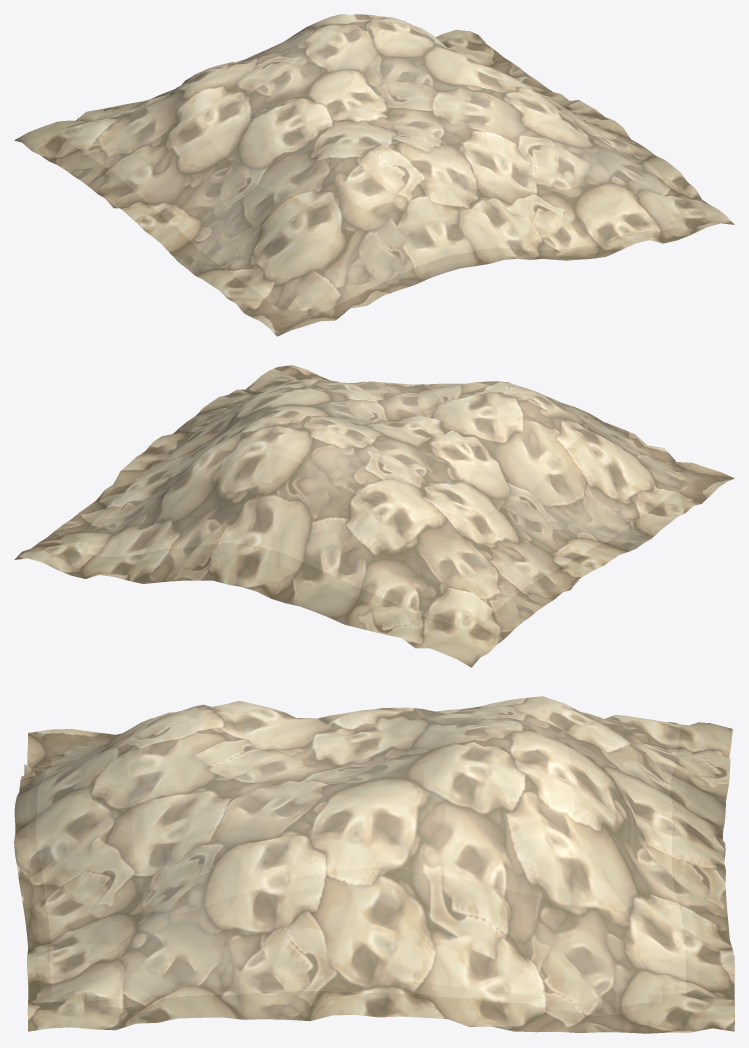
File: SM_Bone_Pile_01.fbx
3 renders of one model, top to bottom at view 1: azimuth 30°, elevation 25°; view 2: azimuth 150°, elevation 25°; view 3: azimuth 270°, elevation 25°, orthographic. The views are drawn at different scales.
Visible parts, largest first — view 1: SM_Bone_Pile_01; view 2: SM_Bone_Pile_01; view 3: SM_Bone_Pile_01.
Boxes of the visible parts, <box> form: SM_Bone_Pile_01: <box>14,14,734,336</box>; SM_Bone_Pile_01: <box>14,365,734,667</box>; SM_Bone_Pile_01: <box>14,696,734,1033</box>.
Size of the model in its own units: 202 by 204 by 51.43.
